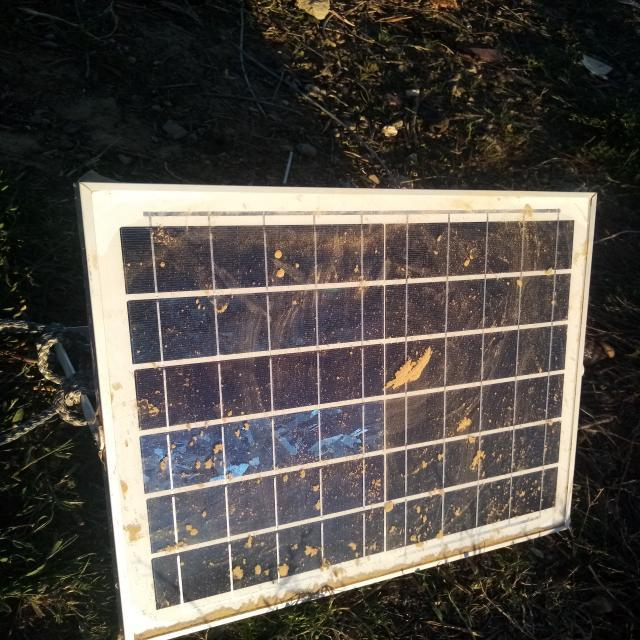faulty: (84, 183, 599, 640)
